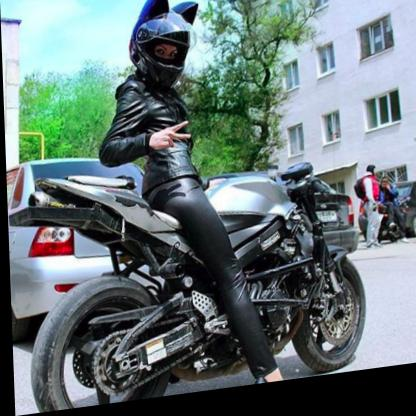With Helmet: (125, 0, 205, 95)
